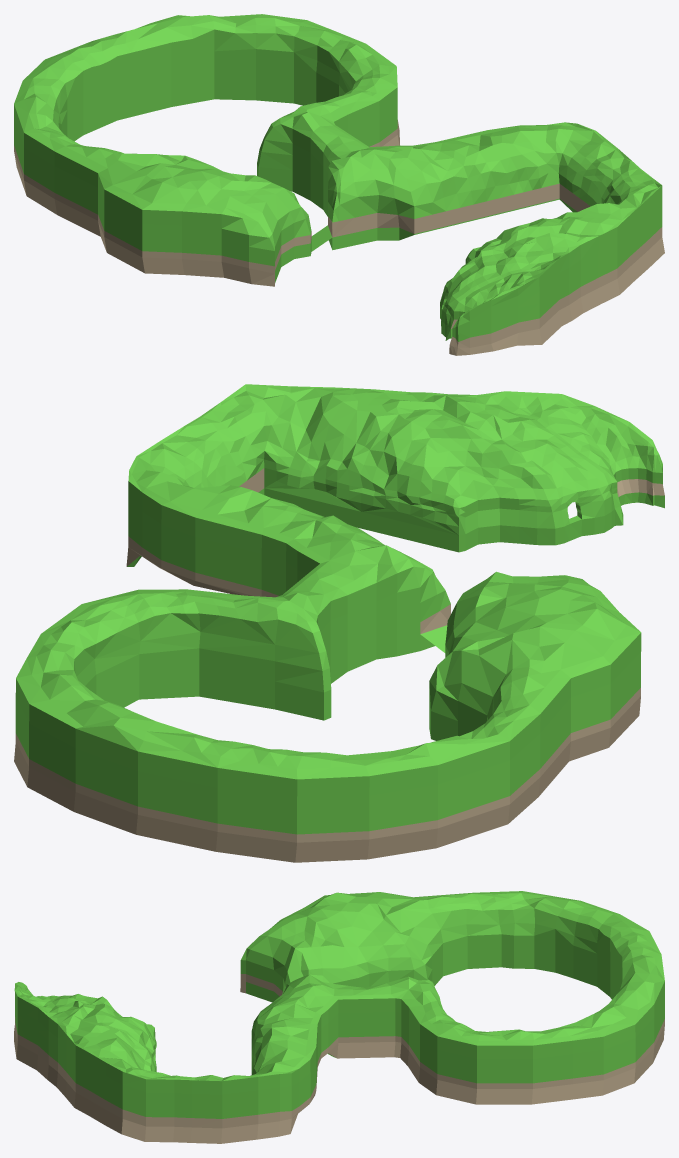
The model's file is hill.fbx.
The picture shows the model from 3 angles, top to bottom: view 1: azimuth 30°, elevation 25°; view 2: azimuth 150°, elevation 25°; view 3: azimuth 270°, elevation 25°; orthographic projection. The views are drawn at different scales.
Parts seen in each view (by area): view 1: hill; view 2: hill; view 3: hill.
Part boxes in pixels (x1,y1,x2,y2): hill: (14,14,664,355); hill: (14,384,664,862); hill: (14,891,664,1143).
Size of the model in its own units: 71650 by 13265 by 102910.
